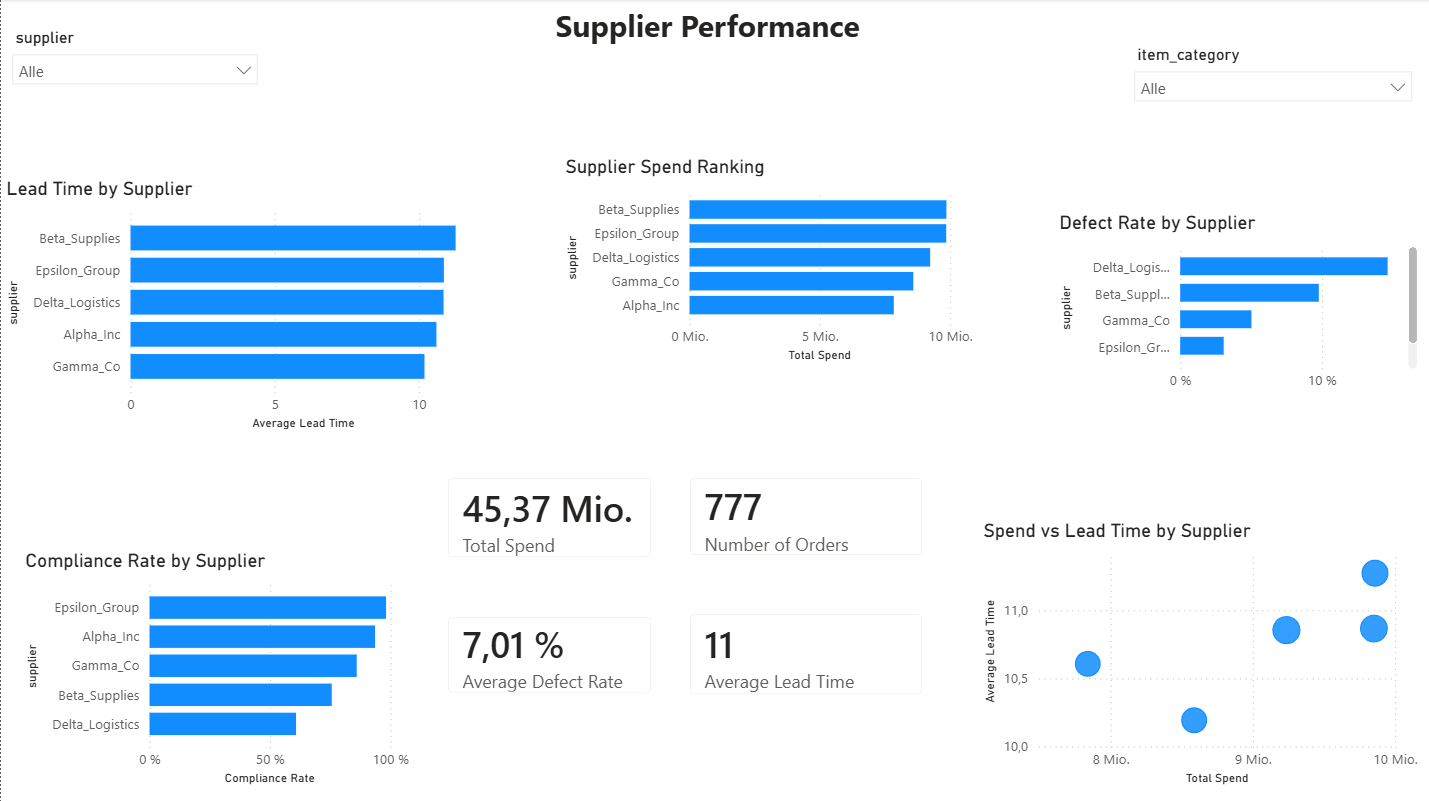

The page's visual inventory and layout, read from the dashboard file:
{"tool":"powerbi","page":{"name":"Supplier Performance","canvas":[1280,720],"ordinal":1},"visuals":[{"type":"textbox","box":[491.6,0,297.3,53.7],"z":0},{"type":"cardVisual","fields":{"Data":["procurement_cleaned.Total Spend"]},"box":[383.3,411.9,216.7,105.7],"z":1},{"type":"cardVisual","fields":{"Data":["procurement_cleaned.Number of Orders"]},"box":[600,411.9,242.7,103.9],"z":2},{"type":"cardVisual","fields":{"Data":["procurement_cleaned.Average Lead Time"]},"box":[600,533.7,242.7,106.6],"z":3},{"type":"cardVisual","fields":{"Data":["procurement_cleaned.Average Defect Rate"]},"box":[383.3,536.4,216.7,102.1],"z":4},{"type":"barChart","title":"Supplier Spend Ranking","fields":{"Category":["procurement_cleaned.supplier"],"Y":["procurement_cleaned.Total Spend"]},"box":[500.6,139.7,374.3,189.9],"z":5},{"type":"barChart","title":"Lead Time by Supplier","fields":{"Category":["procurement_cleaned.supplier"],"Y":["procurement_cleaned.Average Lead Time"]},"box":[0,159.4,437.9,231],"z":6},{"type":"barChart","title":"Defect Rate by Supplier","fields":{"Category":["procurement_cleaned.supplier"],"Y":["procurement_cleaned.Average Defect Rate"]},"box":[943,189.9,330.4,170.1],"z":7},{"type":"barChart","title":"Compliance Rate by Supplier","fields":{"Y":["procurement_cleaned.Compliance Rate"],"Category":["procurement_cleaned.supplier"]},"box":[17,492.5,353.7,215.8],"z":8},{"type":"scatterChart","title":"Spend vs Lead Time by Supplier","fields":{"X":["procurement_cleaned.Total Spend"],"Y":["procurement_cleaned.Average Lead Time"],"Category":["procurement_cleaned.supplier"],"Size":["procurement_cleaned.Number of Orders"]},"box":[874.9,465.7,398.5,242.7],"z":9},{"type":"slicer","fields":{"Values":["procurement_cleaned.supplier"]},"box":[0,21.5,240,77],"z":10},{"type":"slicer","fields":{"Values":["procurement_cleaned.item_category"]},"box":[1004.8,36.7,268.7,65.4],"z":11}]}

Visuals, with their boxes in screenshot pixels (x1, y1, x2, y2), scaled from the page's 1280x720 canvas onto the 1429x801 screenshot:
textbox: bbox(549, 0, 881, 60)
cardVisual - procurement_cleaned.Total Spend: bbox(428, 458, 670, 576)
cardVisual - procurement_cleaned.Number of Orders: bbox(670, 458, 941, 574)
cardVisual - procurement_cleaned.Average Lead Time: bbox(670, 594, 941, 712)
cardVisual - procurement_cleaned.Average Defect Rate: bbox(428, 597, 670, 710)
"Supplier Spend Ranking" barChart: bbox(559, 155, 977, 367)
"Lead Time by Supplier" barChart: bbox(0, 177, 489, 434)
"Defect Rate by Supplier" barChart: bbox(1053, 211, 1422, 400)
"Compliance Rate by Supplier" barChart: bbox(19, 548, 414, 788)
"Spend vs Lead Time by Supplier" scatterChart: bbox(977, 518, 1422, 788)
slicer - procurement_cleaned.supplier: bbox(0, 24, 268, 110)
slicer - procurement_cleaned.item_category: bbox(1122, 41, 1422, 114)
